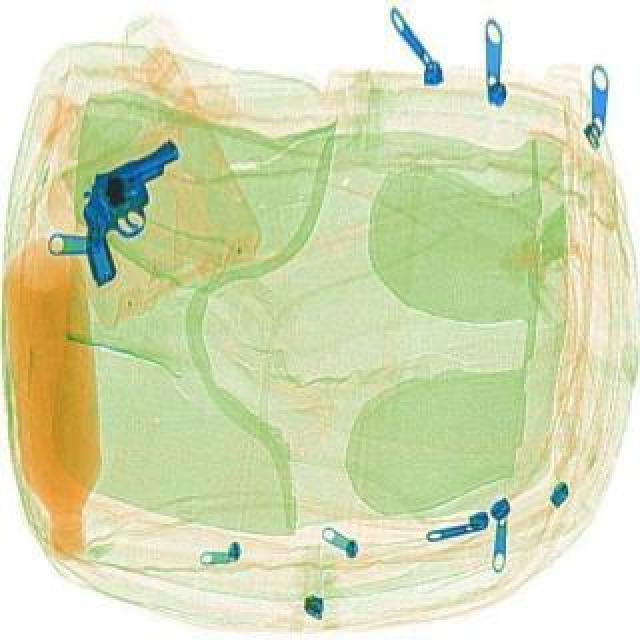gun: (36, 120, 214, 286)
